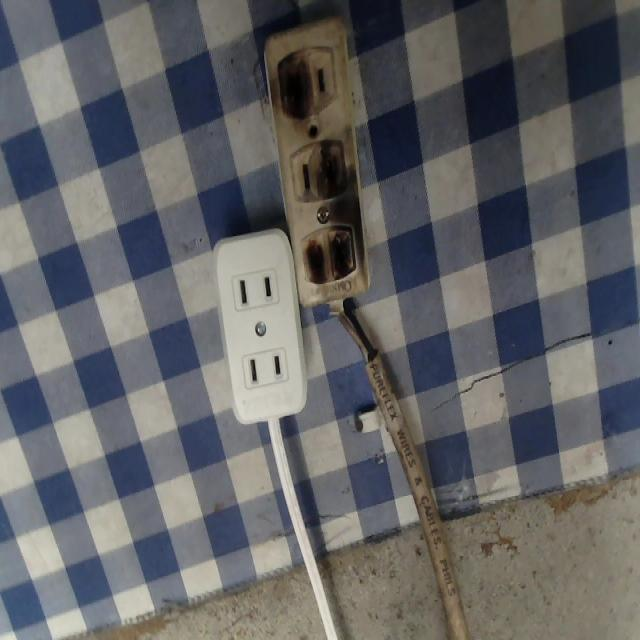-: (300, 222, 367, 298), (270, 48, 314, 117), (315, 137, 352, 196)
